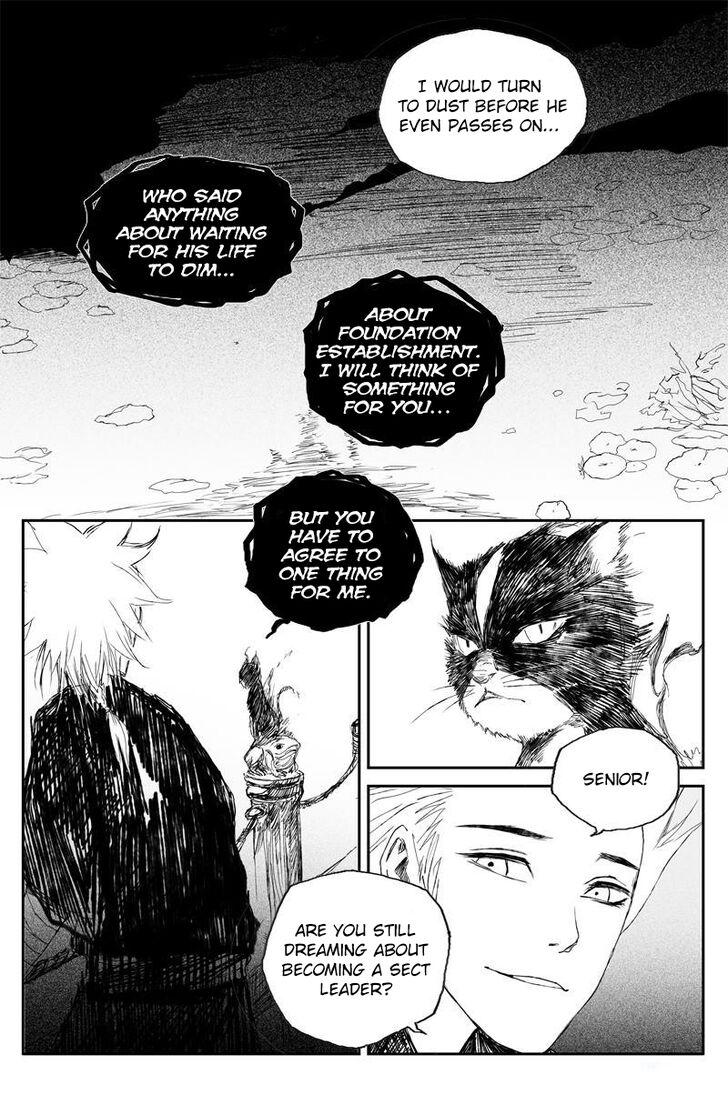Bubble: (306, 267, 510, 450), (75, 152, 300, 310), (260, 868, 452, 1050), (378, 27, 590, 185), (241, 467, 427, 634), (550, 726, 681, 834)
